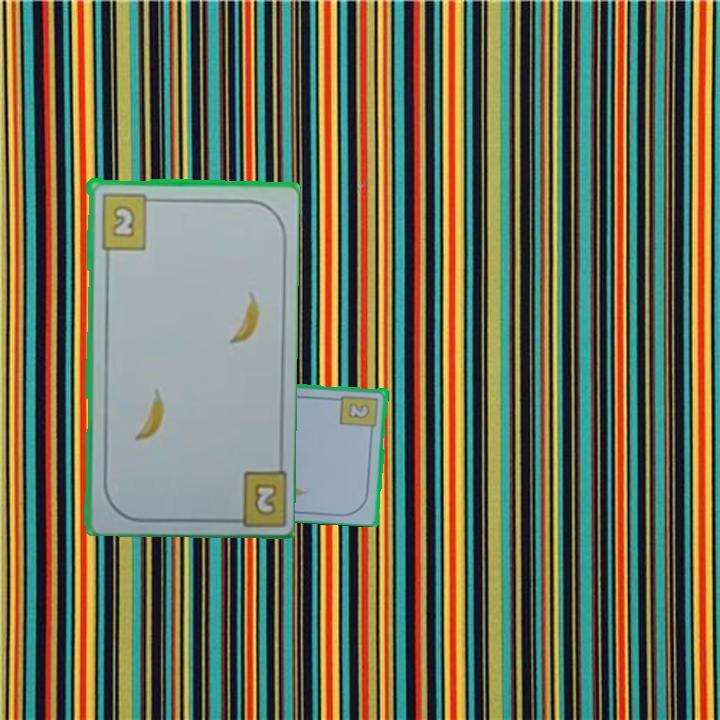2b: (97, 190, 159, 251), (338, 391, 381, 435), (250, 479, 280, 518)
